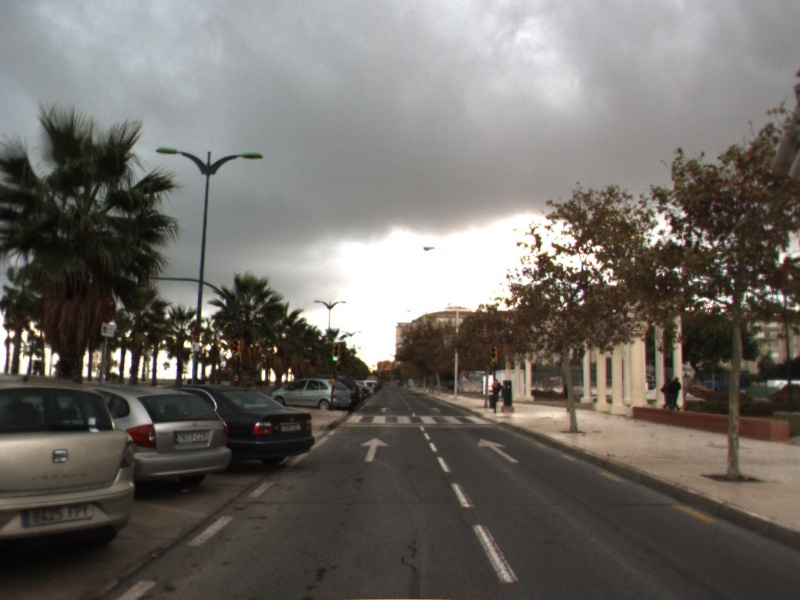STRAIGHT: (476, 437, 521, 464), (358, 436, 391, 463)
